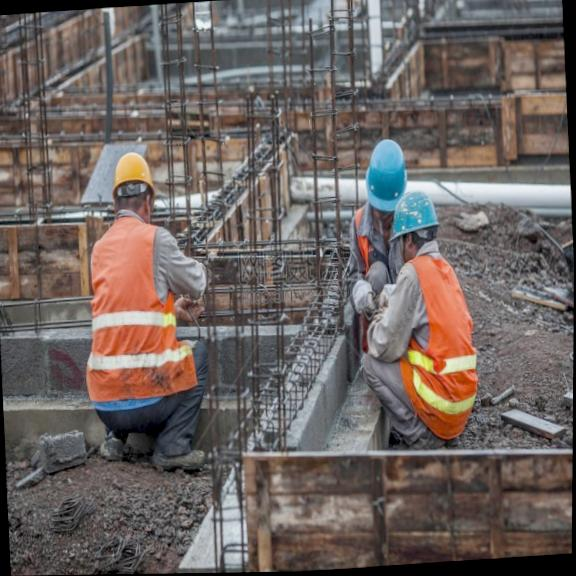safety_vest: (74, 224, 195, 404), (393, 250, 482, 436)
